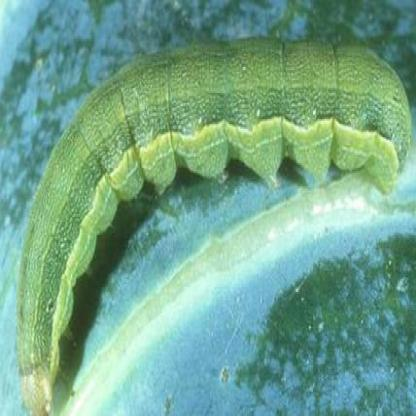armyworm: (6, 21, 414, 410)
